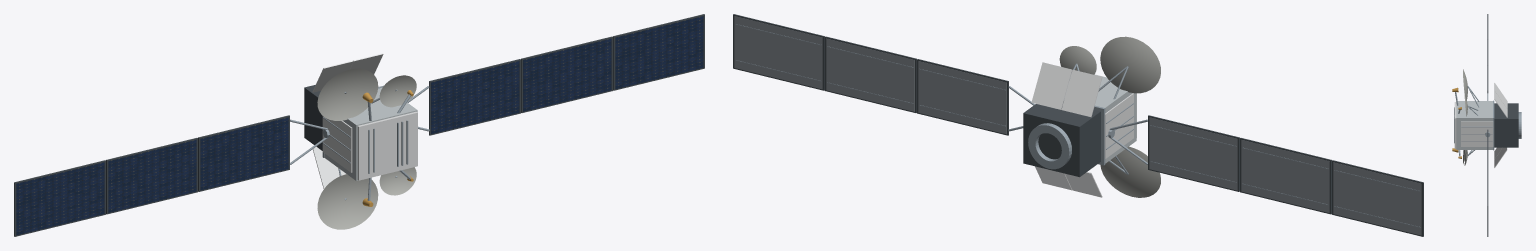
The model's file is ssl-1300-three-wing-hinges.glb.
3 renders of one model, left to right at view 1: azimuth 30°, elevation 25°; view 2: azimuth 150°, elevation 25°; view 3: azimuth 270°, elevation 25°, orthographic. The views are drawn at different scales.
Parts seen in each view (by area): view 1: Solar cell panel (×6), Communications reflector (×4), Solar panel frame (×6), Earth-facing deck, Deployed radiator leaf (×3), Payload module, Radiator face, Service module; view 2: Rear array substrate (×6), Communications reflector (×3), Deployed radiator leaf (×4), Solar panel frame (×6), Service module, Radiator face, Launch adapter ring, Payload module; view 3: Service module, Payload module, Radiator face, Deployed radiator leaf (×4), Solar panel frame (×6), Earth-facing deck, Communications reflector, Launch adapter ring, Module interface, Radiator seam.
Part boxes in pixels (x1,y1,x2,y2): Solar cell panel (×6): (16,16,703,235); Communications reflector (×4): (317,68,416,229); Solar panel frame (×6): (14,14,704,236); Earth-facing deck: (357,111,417,180); Deployed radiator leaf (×3): (312,53,383,188); Payload module: (324,87,417,180); Radiator face: (322,116,352,172); Service module: (304,85,322,150); Rear array substrate (×6): (734,16,1421,235); Communications reflector (×3): (1059,36,1160,197); Deployed radiator leaf (×4): (1031,62,1102,197); Solar panel frame (×6): (733,14,1423,236); Service module: (1023,102,1100,177); Radiator face: (1104,93,1133,158); Launch adapter ring: (1028,123,1071,169); Payload module: (1064,74,1136,163); Service module: (1494,103,1518,147); Payload module: (1456,101,1492,149); Radiator face: (1461,121,1493,146); Deployed radiator leaf (×4): (1494,83,1507,167); Solar panel frame (×6): (1487,14,1488,236); Earth-facing deck: (1454,102,1456,148); Communications reflector: (1463,69,1467,100); Launch adapter ring: (1518,112,1521,138); Module interface: (1493,100,1494,150); Radiator seam: (1461,126,1492,127).
Bounding box in the file's own units: 26.96 × 5.94 × 4.13.
8 materials, 1 textured.
